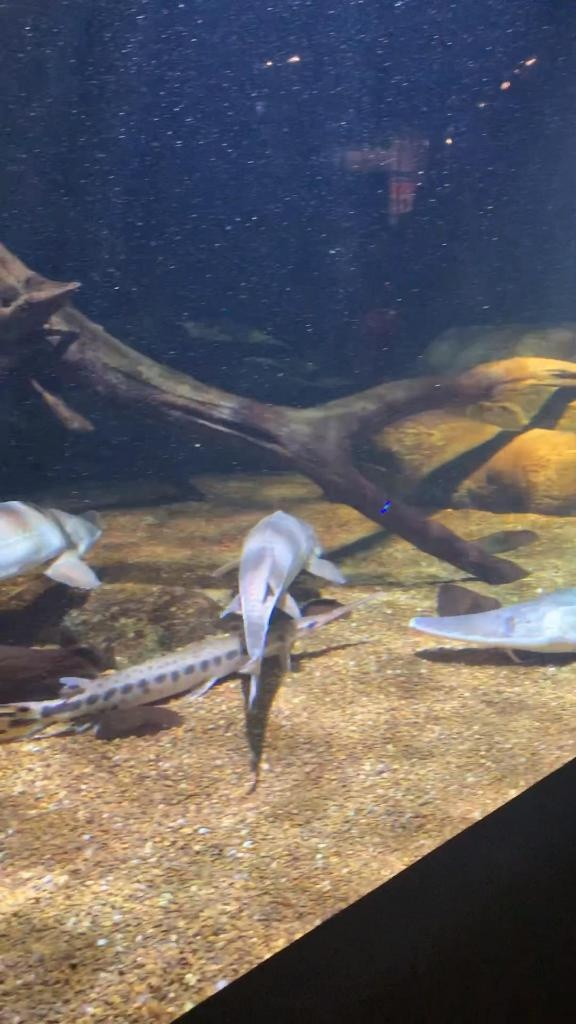fish: (1, 588, 385, 746), (410, 588, 576, 656)
shark: (216, 502, 342, 710)
